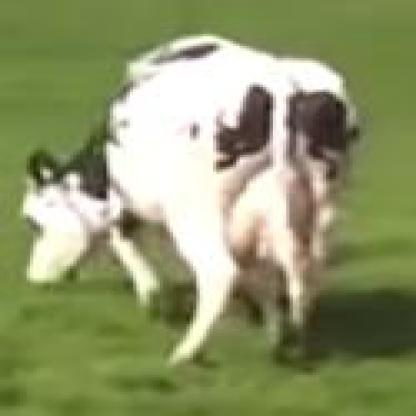cow: (25, 36, 358, 368)
